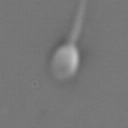normal: (66, 1, 90, 42)
